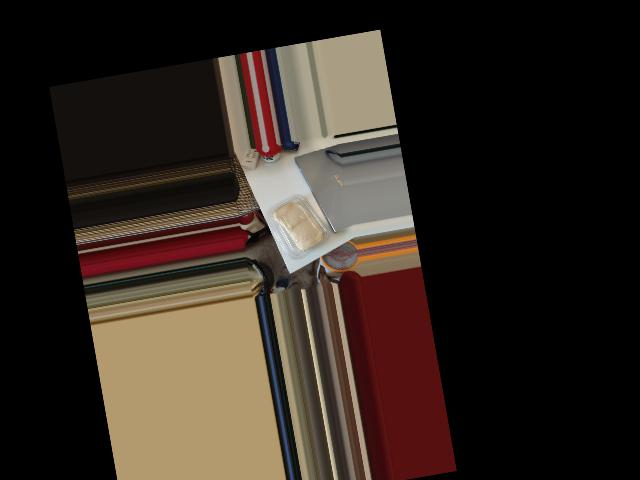cheese: (263, 187, 333, 267)
